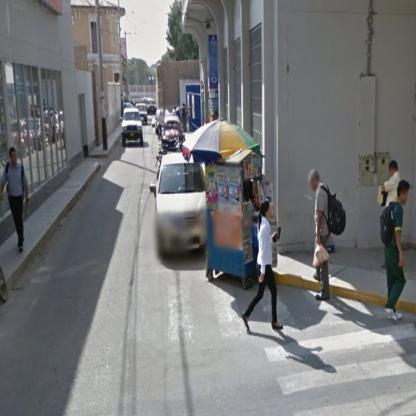Peaton: (242, 201, 285, 334), (384, 179, 412, 322), (308, 168, 332, 301), (1, 148, 30, 250), (381, 162, 401, 270)
Pista: (2, 107, 415, 415)
Vehiculo: (148, 154, 211, 260), (123, 106, 144, 148)
